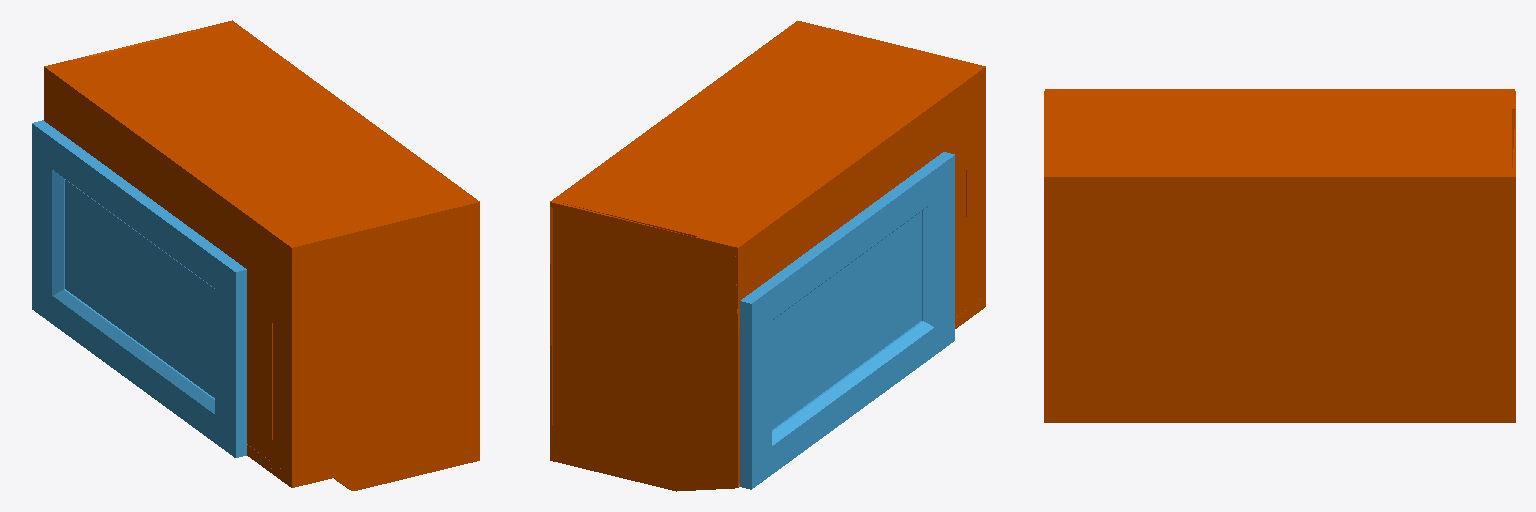
The robot description file, URDF, robot "partnet_87bae84777fe8b702bac1bcdfc2402d2":
<?xml version="1.0" ?>
<robot name="partnet_87bae84777fe8b702bac1bcdfc2402d2">
	<link name="base"/>
	<link name="link_0">
		<visual name="door_frame-27">
			<origin xyz="0.8040978092034378 -0.4571359999999993 -0.36598974550729024"/>
			<geometry>
				<mesh filename="textured_objs/door.obj"/>
			</geometry>
		</visual>
		<collision>
			<origin xyz="0.8040978092034378 -0.4571359999999993 -0.36598974550729024"/>
			<geometry>
				<mesh filename="textured_objs/door.obj"/>
			</geometry>
		</collision>
	</link>
	<link name="link_handle">
	    <visual>
			<geometry>
				<mesh filename="textured_objs/original-3.obj" scale="2.0 1.1 2.0"/>
			</geometry>
		</visual>
		<collision>
			<geometry>
				<mesh filename="textured_objs/original-3.obj" scale="2.0 1.1 2.0"/>
			</geometry>
		</collision>
	</link>
	<joint name="joint_handle" type="fixed">
	    <origin xyz="0.340978092034378 -0.4571359999999993 -0.73598974550729024"/>
		<child link="link_handle"/>
		<parent link="link_0"/>
	</joint>

	<joint name="joint_0" type="revolute">
		<origin xyz="-0.8040978092034378 0.4571359999999993 0.36598974550729024"/>
		<axis xyz="0 -1 0"/>
		<child link="link_0"/>
		<parent link="link_19"/>
		<limit lower="-0.0" upper="1.5707963267948966"/>
	</joint>
	<link name="link_1">
		<visual name="control_button-8">
			<origin xyz="-0.7917796010891323 0.14215177147656233 -0.3672469999999999"/>
			<geometry>
				<mesh filename="textured_objs/original-12.obj"/>
			</geometry>
		</visual>
		<collision>
			<origin xyz="-0.7917796010891323 0.14215177147656233 -0.3672469999999999"/>
			<geometry>
				<mesh filename="textured_objs/original-12.obj"/>
			</geometry>
		</collision>
	</link>
	<joint name="joint_1" type="prismatic">
		<origin xyz="0.7917796010891323 -0.14215177147656233 0.3672469999999999"/>
		<axis xyz="0 0 -1"/>
		<child link="link_1"/>
		<parent link="link_19"/>
		<limit lower="0" upper="0.025"/>
	</joint>
	<link name="link_2">
		<visual name="control_button-9">
			<origin xyz="-0.7917796010891323 0.14215177147656233 -0.3672469999999999"/>
			<geometry>
				<mesh filename="textured_objs/original-13.obj"/>
			</geometry>
		</visual>
		<collision>
			<origin xyz="-0.7917796010891323 0.14215177147656233 -0.3672469999999999"/>
			<geometry>
				<mesh filename="textured_objs/original-13.obj"/>
			</geometry>
		</collision>
	</link>
	<joint name="joint_2" type="prismatic">
		<origin xyz="0.7917796010891323 -0.14215177147656233 0.3672469999999999"/>
		<axis xyz="0 0 -1"/>
		<child link="link_2"/>
		<parent link="link_19"/>
		<limit lower="0" upper="0.025"/>
	</joint>
	<link name="link_3">
		<visual name="control_button-10">
			<origin xyz="-0.7917796010891323 0.14215177147656233 -0.3672469999999999"/>
			<geometry>
				<mesh filename="textured_objs/original-15.obj"/>
			</geometry>
		</visual>
		<collision>
			<origin xyz="-0.7917796010891323 0.14215177147656233 -0.3672469999999999"/>
			<geometry>
				<mesh filename="textured_objs/original-15.obj"/>
			</geometry>
		</collision>
	</link>
	<joint name="joint_3" type="prismatic">
		<origin xyz="0.7917796010891323 -0.14215177147656233 0.3672469999999999"/>
		<axis xyz="0 0 -1"/>
		<child link="link_3"/>
		<parent link="link_19"/>
		<limit lower="0" upper="0.025"/>
	</joint>
	<link name="link_4">
		<visual name="control_button-11">
			<origin xyz="-0.7917796010891323 0.14215177147656233 -0.3672469999999999"/>
			<geometry>
				<mesh filename="textured_objs/original-14.obj"/>
			</geometry>
		</visual>
		<collision>
			<origin xyz="-0.7917796010891323 0.14215177147656233 -0.3672469999999999"/>
			<geometry>
				<mesh filename="textured_objs/original-14.obj"/>
			</geometry>
		</collision>
	</link>
	<joint name="joint_4" type="prismatic">
		<origin xyz="0.7917796010891323 -0.14215177147656233 0.3672469999999999"/>
		<axis xyz="0 0 -1"/>
		<child link="link_4"/>
		<parent link="link_19"/>
		<limit lower="0" upper="0.025"/>
	</joint>
	<link name="link_5">
		<visual name="control_button-12">
			<origin xyz="-0.7917796010891323 0.14215177147656233 -0.3672469999999999"/>
			<geometry>
				<mesh filename="textured_objs/original-16.obj"/>
			</geometry>
		</visual>
		<collision>
			<origin xyz="-0.7917796010891323 0.14215177147656233 -0.3672469999999999"/>
			<geometry>
				<mesh filename="textured_objs/original-16.obj"/>
			</geometry>
		</collision>
	</link>
	<joint name="joint_5" type="prismatic">
		<origin xyz="0.7917796010891323 -0.14215177147656233 0.3672469999999999"/>
		<axis xyz="0 0 -1"/>
		<child link="link_5"/>
		<parent link="link_19"/>
		<limit lower="0" upper="0.025"/>
	</joint>
	<link name="link_6">
		<visual name="control_button-13">
			<origin xyz="-0.7917796010891323 0.14215177147656233 -0.3672469999999999"/>
			<geometry>
				<mesh filename="textured_objs/original-26.obj"/>
			</geometry>
		</visual>
		<collision>
			<origin xyz="-0.7917796010891323 0.14215177147656233 -0.3672469999999999"/>
			<geometry>
				<mesh filename="textured_objs/original-26.obj"/>
			</geometry>
		</collision>
	</link>
	<joint name="joint_6" type="prismatic">
		<origin xyz="0.7917796010891323 -0.14215177147656233 0.3672469999999999"/>
		<axis xyz="0 0 -1"/>
		<child link="link_6"/>
		<parent link="link_19"/>
		<limit lower="0" upper="0.025"/>
	</joint>
	<link name="link_7">
		<visual name="control_button-14">
			<origin xyz="-0.7917796010891323 0.14215177147656233 -0.3672469999999999"/>
			<geometry>
				<mesh filename="textured_objs/original-17.obj"/>
			</geometry>
		</visual>
		<collision>
			<origin xyz="-0.7917796010891323 0.14215177147656233 -0.3672469999999999"/>
			<geometry>
				<mesh filename="textured_objs/original-17.obj"/>
			</geometry>
		</collision>
	</link>
	<joint name="joint_7" type="prismatic">
		<origin xyz="0.7917796010891323 -0.14215177147656233 0.3672469999999999"/>
		<axis xyz="0 0 -1"/>
		<child link="link_7"/>
		<parent link="link_19"/>
		<limit lower="0" upper="0.025"/>
	</joint>
	<link name="link_8">
		<visual name="control_button-15">
			<origin xyz="-0.7917796010891323 0.14215177147656233 -0.3672469999999999"/>
			<geometry>
				<mesh filename="textured_objs/original-19.obj"/>
			</geometry>
		</visual>
		<collision>
			<origin xyz="-0.7917796010891323 0.14215177147656233 -0.3672469999999999"/>
			<geometry>
				<mesh filename="textured_objs/original-19.obj"/>
			</geometry>
		</collision>
	</link>
	<joint name="joint_8" type="prismatic">
		<origin xyz="0.7917796010891323 -0.14215177147656233 0.3672469999999999"/>
		<axis xyz="0 0 -1"/>
		<child link="link_8"/>
		<parent link="link_19"/>
		<limit lower="0" upper="0.025"/>
	</joint>
	<link name="link_9">
		<visual name="control_button-16">
			<origin xyz="-0.7917796010891323 0.14215177147656233 -0.3672469999999999"/>
			<geometry>
				<mesh filename="textured_objs/original-20.obj"/>
			</geometry>
		</visual>
		<collision>
			<origin xyz="-0.7917796010891323 0.14215177147656233 -0.3672469999999999"/>
			<geometry>
				<mesh filename="textured_objs/original-20.obj"/>
			</geometry>
		</collision>
	</link>
	<joint name="joint_9" type="prismatic">
		<origin xyz="0.7917796010891323 -0.14215177147656233 0.3672469999999999"/>
		<axis xyz="0 0 -1"/>
		<child link="link_9"/>
		<parent link="link_19"/>
		<limit lower="0" upper="0.025"/>
	</joint>
	<link name="link_10">
		<visual name="control_button-17">
			<origin xyz="-0.7917796010891323 0.14215177147656233 -0.3672469999999999"/>
			<geometry>
				<mesh filename="textured_objs/original-23.obj"/>
			</geometry>
		</visual>
		<collision>
			<origin xyz="-0.7917796010891323 0.14215177147656233 -0.3672469999999999"/>
			<geometry>
				<mesh filename="textured_objs/original-23.obj"/>
			</geometry>
		</collision>
	</link>
	<joint name="joint_10" type="prismatic">
		<origin xyz="0.7917796010891323 -0.14215177147656233 0.3672469999999999"/>
		<axis xyz="0 0 -1"/>
		<child link="link_10"/>
		<parent link="link_19"/>
		<limit lower="0" upper="0.025"/>
	</joint>
	<link name="link_11">
		<visual name="control_button-18">
			<origin xyz="-0.7917796010891323 0.14215177147656233 -0.3672469999999999"/>
			<geometry>
				<mesh filename="textured_objs/original-27.obj"/>
			</geometry>
		</visual>
		<collision>
			<origin xyz="-0.7917796010891323 0.14215177147656233 -0.3672469999999999"/>
			<geometry>
				<mesh filename="textured_objs/original-27.obj"/>
			</geometry>
		</collision>
	</link>
	<joint name="joint_11" type="prismatic">
		<origin xyz="0.7917796010891323 -0.14215177147656233 0.3672469999999999"/>
		<axis xyz="0 0 -1"/>
		<child link="link_11"/>
		<parent link="link_19"/>
		<limit lower="0" upper="0.025"/>
	</joint>
	<link name="link_12">
		<visual name="control_button-19">
			<origin xyz="-0.7917796010891323 0.14215177147656233 -0.3672469999999999"/>
			<geometry>
				<mesh filename="textured_objs/original-21.obj"/>
			</geometry>
		</visual>
		<collision>
			<origin xyz="-0.7917796010891323 0.14215177147656233 -0.3672469999999999"/>
			<geometry>
				<mesh filename="textured_objs/original-21.obj"/>
			</geometry>
		</collision>
	</link>
	<joint name="joint_12" type="prismatic">
		<origin xyz="0.7917796010891323 -0.14215177147656233 0.3672469999999999"/>
		<axis xyz="0 0 -1"/>
		<child link="link_12"/>
		<parent link="link_19"/>
		<limit lower="0" upper="0.025"/>
	</joint>
	<link name="link_13">
		<visual name="control_button-20">
			<origin xyz="-0.7917796010891323 0.14215177147656233 -0.3672469999999999"/>
			<geometry>
				<mesh filename="textured_objs/original-22.obj"/>
			</geometry>
		</visual>
		<collision>
			<origin xyz="-0.7917796010891323 0.14215177147656233 -0.3672469999999999"/>
			<geometry>
				<mesh filename="textured_objs/original-22.obj"/>
			</geometry>
		</collision>
	</link>
	<joint name="joint_13" type="prismatic">
		<origin xyz="0.7917796010891323 -0.14215177147656233 0.3672469999999999"/>
		<axis xyz="0 0 -1"/>
		<child link="link_13"/>
		<parent link="link_19"/>
		<limit lower="0" upper="0.025"/>
	</joint>
	<link name="link_14">
		<visual name="control_button-21">
			<origin xyz="-0.7917796010891323 0.14215177147656233 -0.3672469999999999"/>
			<geometry>
				<mesh filename="textured_objs/original-18.obj"/>
			</geometry>
		</visual>
		<collision>
			<origin xyz="-0.7917796010891323 0.14215177147656233 -0.3672469999999999"/>
			<geometry>
				<mesh filename="textured_objs/original-18.obj"/>
			</geometry>
		</collision>
	</link>
	<joint name="joint_14" type="prismatic">
		<origin xyz="0.7917796010891323 -0.14215177147656233 0.3672469999999999"/>
		<axis xyz="0 0 -1"/>
		<child link="link_14"/>
		<parent link="link_19"/>
		<limit lower="0" upper="0.025"/>
	</joint>
	<link name="link_15">
		<visual name="control_button-22">
			<origin xyz="-0.7917796010891323 0.14215177147656233 -0.3672469999999999"/>
			<geometry>
				<mesh filename="textured_objs/original-25.obj"/>
			</geometry>
		</visual>
		<collision>
			<origin xyz="-0.7917796010891323 0.14215177147656233 -0.3672469999999999"/>
			<geometry>
				<mesh filename="textured_objs/original-25.obj"/>
			</geometry>
		</collision>
	</link>
	<joint name="joint_15" type="prismatic">
		<origin xyz="0.7917796010891323 -0.14215177147656233 0.3672469999999999"/>
		<axis xyz="0 0 -1"/>
		<child link="link_15"/>
		<parent link="link_19"/>
		<limit lower="0" upper="0.025"/>
	</joint>
	<link name="link_16">
		<visual name="control_button-23">
			<origin xyz="-0.7917796010891323 0.14215177147656233 -0.3672469999999999"/>
			<geometry>
				<mesh filename="textured_objs/original-11.obj"/>
			</geometry>
		</visual>
		<collision>
			<origin xyz="-0.7917796010891323 0.14215177147656233 -0.3672469999999999"/>
			<geometry>
				<mesh filename="textured_objs/original-11.obj"/>
			</geometry>
		</collision>
	</link>
	<joint name="joint_16" type="prismatic">
		<origin xyz="0.7917796010891323 -0.14215177147656233 0.3672469999999999"/>
		<axis xyz="0 0 -1"/>
		<child link="link_16"/>
		<parent link="link_19"/>
		<limit lower="0" upper="0.025"/>
	</joint>
	<link name="link_17">
		<visual name="control_button-24">
			<origin xyz="-0.7917796010891323 0.14215177147656233 -0.3672469999999999"/>
			<geometry>
				<mesh filename="textured_objs/original-10.obj"/>
			</geometry>
		</visual>
		<collision>
			<origin xyz="-0.7917796010891323 0.14215177147656233 -0.3672469999999999"/>
			<geometry>
				<mesh filename="textured_objs/original-10.obj"/>
			</geometry>
		</collision>
	</link>
	<joint name="joint_17" type="prismatic">
		<origin xyz="0.7917796010891323 -0.14215177147656233 0.3672469999999999"/>
		<axis xyz="0 0 -1"/>
		<child link="link_17"/>
		<parent link="link_19"/>
		<limit lower="0" upper="0.025"/>
	</joint>
	<link name="link_18">
		<visual name="control_button-25">
			<origin xyz="-0.7917796010891323 0.14215177147656233 -0.3672469999999999"/>
			<geometry>
				<mesh filename="textured_objs/original-24.obj"/>
			</geometry>
		</visual>
		<collision>
			<origin xyz="-0.7917796010891323 0.14215177147656233 -0.3672469999999999"/>
			<geometry>
				<mesh filename="textured_objs/original-24.obj"/>
			</geometry>
		</collision>
	</link>
	<joint name="joint_18" type="prismatic">
		<origin xyz="0.7917796010891323 -0.14215177147656233 0.3672469999999999"/>
		<axis xyz="0 0 -1"/>
		<child link="link_18"/>
		<parent link="link_19"/>
		<limit lower="0" upper="0.025"/>
	</joint>
	<link name="link_19">
		<visual name="surface-4">
			<origin xyz="0 0 0"/>
			<geometry>
				<mesh filename="textured_objs/new-0.obj"/>
			</geometry>
		</visual>
		<visual name="frame-5">
			<origin xyz="0 0 0"/>
			<geometry>
				<mesh filename="textured_objs/new-3.obj"/>
			</geometry>
		</visual>
		<visual name="frame-5">
			<origin xyz="0 0 0"/>
			<geometry>
				<mesh filename="textured_objs/original-6.obj"/>
			</geometry>
		</visual>
		<visual name="frame-5">
			<origin xyz="0 0 0"/>
			<geometry>
				<mesh filename="textured_objs/new-1_v.obj"/>
			</geometry>
		</visual>
		<visual name="display_panel-26">
			<origin xyz="0 0 0"/>
			<geometry>
				<mesh filename="textured_objs/new-2.obj"/>
			</geometry>
		</visual>
		<collision>
			<origin xyz="0 0 0"/>
			<geometry>
				<mesh filename="textured_objs/new-0.obj"/>
			</geometry>
		</collision>
		<collision>
			<origin xyz="0 0 0"/>
			<geometry>
				<mesh filename="textured_objs/new-3.obj"/>
			</geometry>
		</collision>
		<collision>
			<origin xyz="0 0 0"/>
			<geometry>
				<mesh filename="textured_objs/original-6.obj"/>
			</geometry>
		</collision>
		<collision>
			<origin xyz="0 0 0"/>
			<geometry>
				<mesh filename="textured_objs/new-1_v.obj"/>
			</geometry>
		</collision>
		<collision>
			<origin xyz="0 0 0"/>
			<geometry>
				<mesh filename="textured_objs/new-2.obj"/>
			</geometry>
		</collision>
	</link>
	<joint name="joint_19" type="fixed">
		<origin rpy="1.570796326794897 0 -1.570796326794897" xyz="0 0 0"/>
		<child link="link_19"/>
		<parent link="base"/>
	</joint>
</robot>

--- What the picture shows (computed from the rendered views, not written in the file) ---
3 views of the same robot in one strip: view 1: azimuth 30°, elevation 25°; view 2: azimuth 150°, elevation 25°; view 3: azimuth 270°, elevation 25° (orthographic).
Model partnet_87bae84777fe8b702bac1bcdfc2402d2 with 22 links and 21 joints (1 revolute, 18 prismatic, 2 fixed), rooted at base, posed all joints at 0.
Links seen in each view (by area): view 1: link_19, link_0; view 2: link_19, link_0; view 3: link_19.
Boxes of the visible links, <box> form: link_19: <box>44,20,479,490</box>; link_0: <box>32,120,246,457</box>; link_19: <box>550,21,985,491</box>; link_0: <box>740,152,954,489</box>; link_19: <box>1044,89,1515,422</box>.
Size in the robot's own frame: 0.7663 by 1.63 by 0.9408 metres.
3 mesh visuals loaded from 25 distinct referenced files (3 OBJ); not drawn: 22 (reference not matched to a file when rendering).